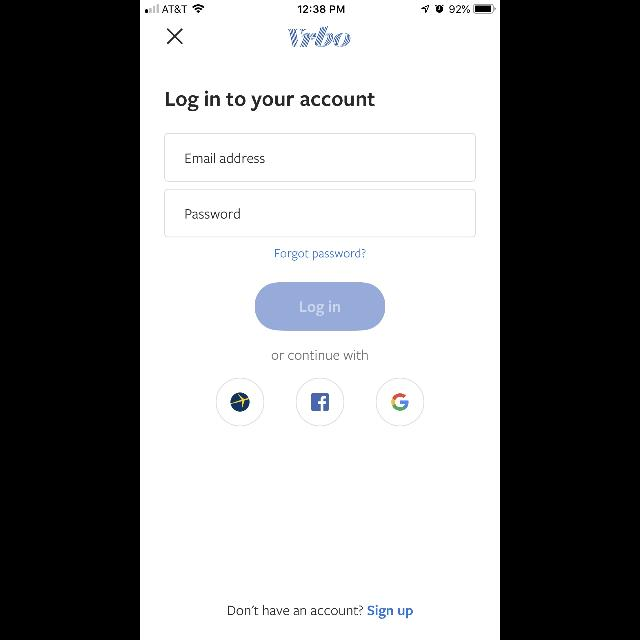icon: (296, 378, 344, 426), (376, 378, 424, 426), (168, 29, 182, 45)
image: (216, 378, 264, 427), (288, 27, 350, 48)
input: (164, 189, 476, 237), (164, 134, 476, 182)
text: (166, 90, 374, 112), (228, 605, 412, 619), (274, 249, 366, 261), (272, 350, 368, 360), (186, 153, 264, 163), (186, 208, 240, 220)
textbutton: (255, 283, 385, 331)
uppertaskbar: (140, 0, 500, 14)
